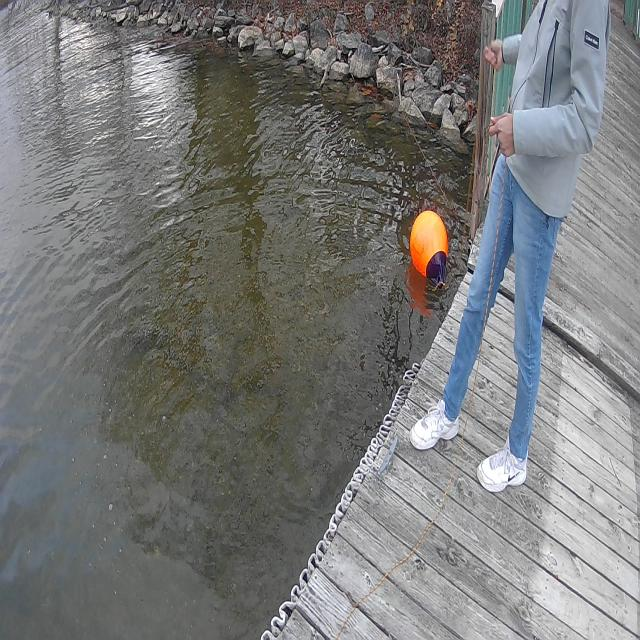Buoy: (407, 206, 453, 290)
